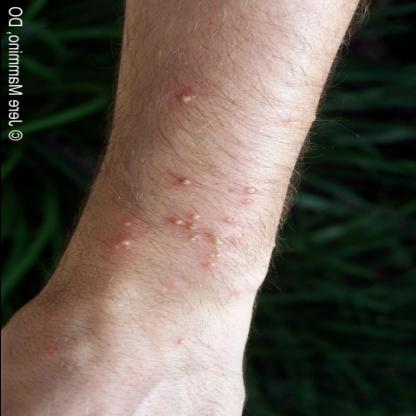Fire ant: (170, 210, 243, 268), (240, 186, 259, 206), (112, 236, 132, 254), (175, 174, 193, 190), (173, 93, 196, 105), (172, 333, 188, 348), (279, 113, 295, 127), (42, 345, 60, 357), (119, 218, 136, 230)
